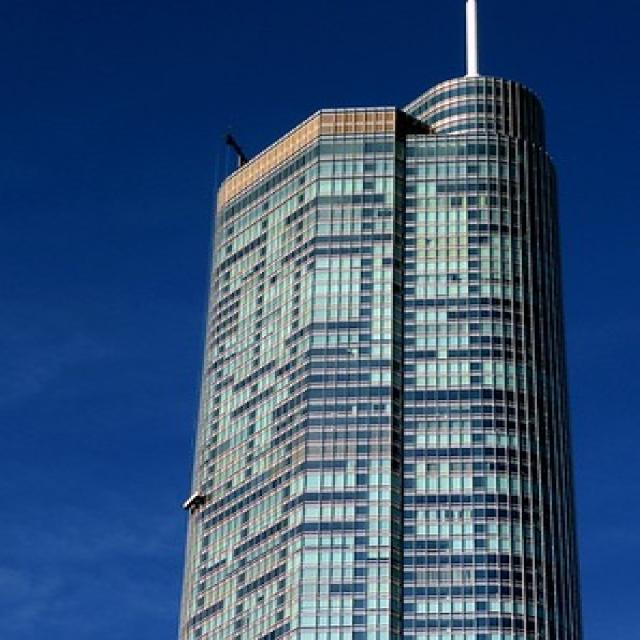building: (170, 70, 584, 640)
